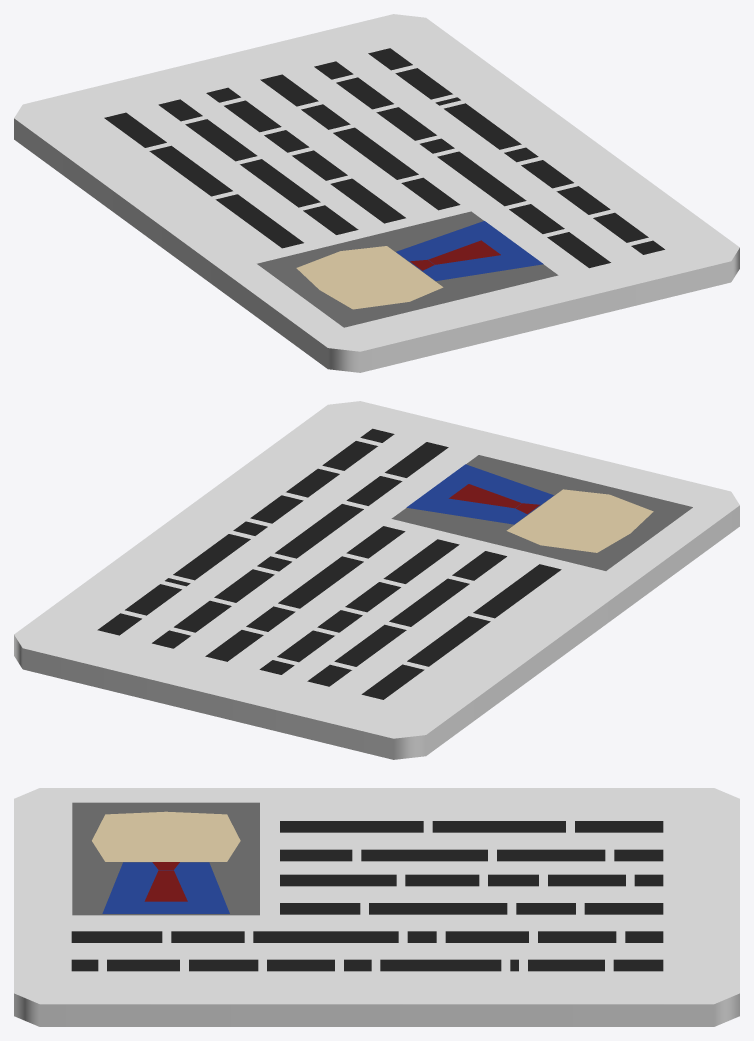
Rendered from Asset_IDCard.fbx.
3 views of the same model, one above another, from view 1: azimuth 30°, elevation 25°; view 2: azimuth 150°, elevation 25°; view 3: azimuth 270°, elevation 25° (orthographic). The views are drawn at different scales.
Parts seen in each view (by area): view 1: Asset_IDCard; view 2: Asset_IDCard; view 3: Asset_IDCard.
Boxes of the visible parts, x1,y1,x2,y2 form: Asset_IDCard: (14, 14, 739, 372); Asset_IDCard: (14, 401, 739, 759); Asset_IDCard: (14, 788, 739, 1026).
Bounding box in the file's own units: 15.82 × 0.8864 × 22.46.
